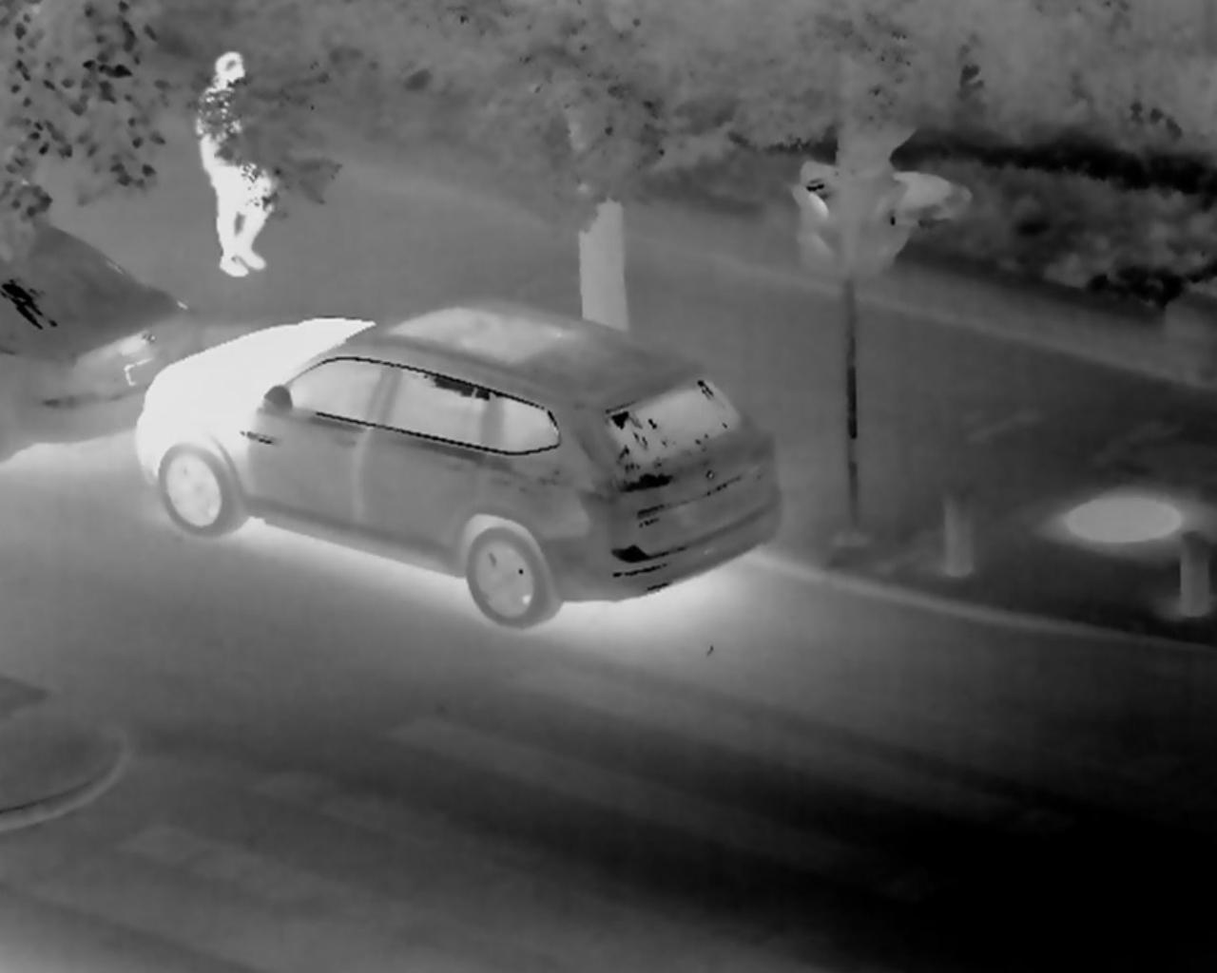person: (195, 50, 273, 278)
